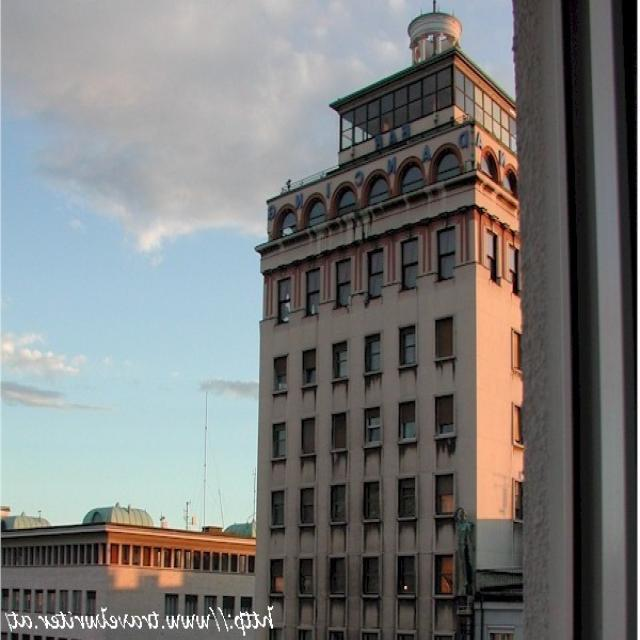building: (254, 0, 523, 640), (1, 504, 255, 640)
